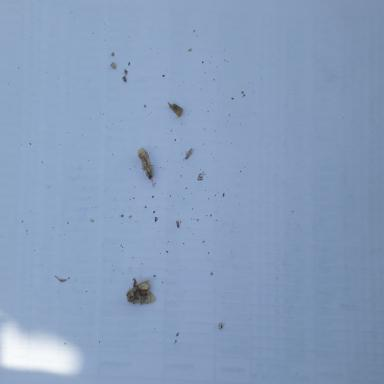pbw: (137, 147, 157, 188), (182, 148, 192, 161)
